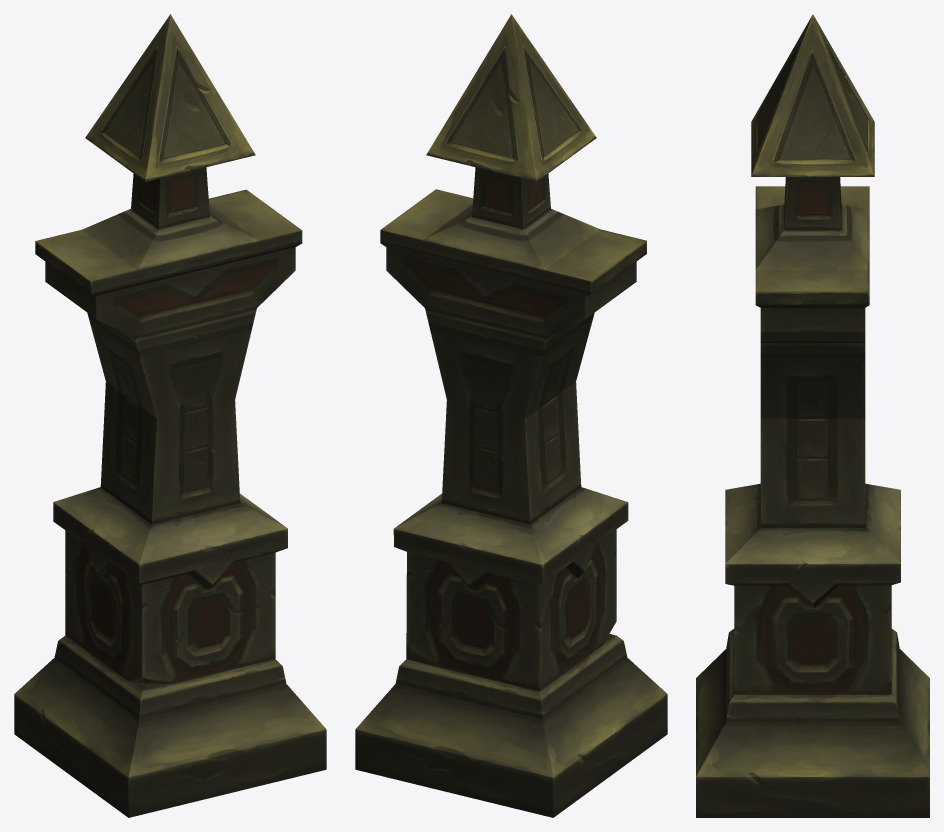
Rendered from PillarTall.dae.
The picture shows the model from 3 angles, left to right: view 1: azimuth 30°, elevation 25°; view 2: azimuth 150°, elevation 25°; view 3: azimuth 270°, elevation 25°; orthographic projection. The views are drawn at different scales.
Visible parts, largest first — view 1: pillar01; view 2: pillar01; view 3: pillar01.
Part boxes in pixels (box(x1,y1,x2,y2)): pillar01: box(14, 14, 326, 817); pillar01: box(355, 14, 667, 817); pillar01: box(696, 14, 929, 817).
Bounding box in the file's own units: 1.71 × 1.61 × 5.72.
Materials: 1 (1 with a texture image).
